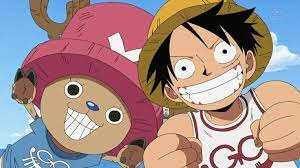chopper: (12, 1, 147, 155)
luffy: (140, 1, 277, 116)
